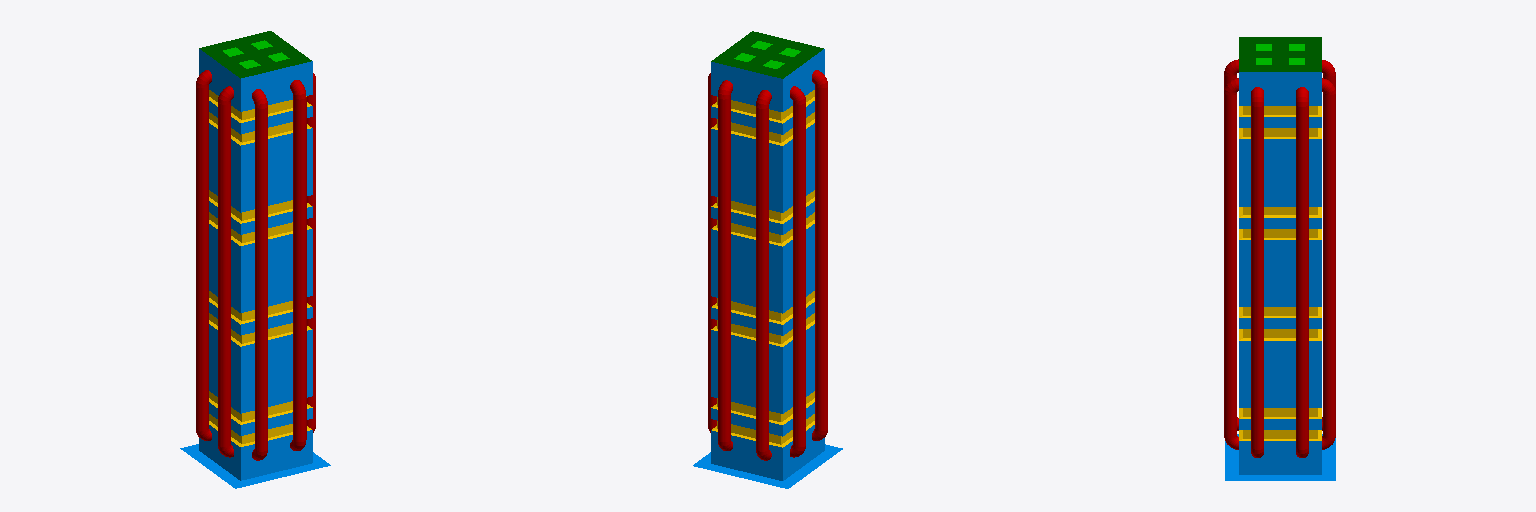
3 views of the same model, side by side, from view 1: azimuth 30°, elevation 25°; view 2: azimuth 150°, elevation 25°; view 3: azimuth 270°, elevation 25° (orthographic).
Parts seen in each view (by area): view 1: StorageTower; view 2: StorageTower; view 3: StorageTower.
Part boxes in pixels (x1,y1,x2,y2): StorageTower: (180,31,330,488); StorageTower: (693,31,842,488); StorageTower: (1224,37,1335,480).
Size of the model in its own units: 1.01 by 4 by 1.01.
1 materials, 1 textured.